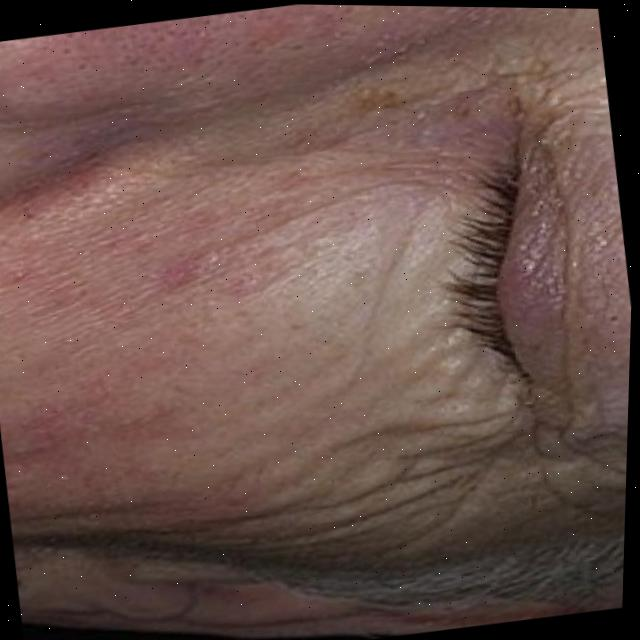Rosacea: (0, 138, 342, 570)
